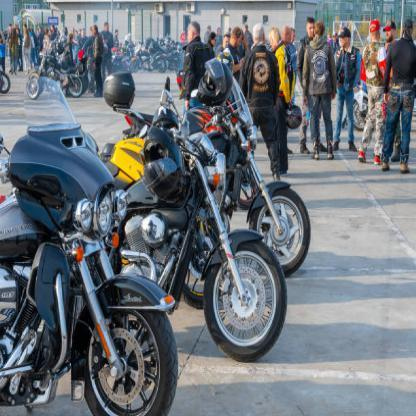Motorcycle: (0, 114, 178, 415), (126, 118, 291, 365), (197, 70, 313, 289)
